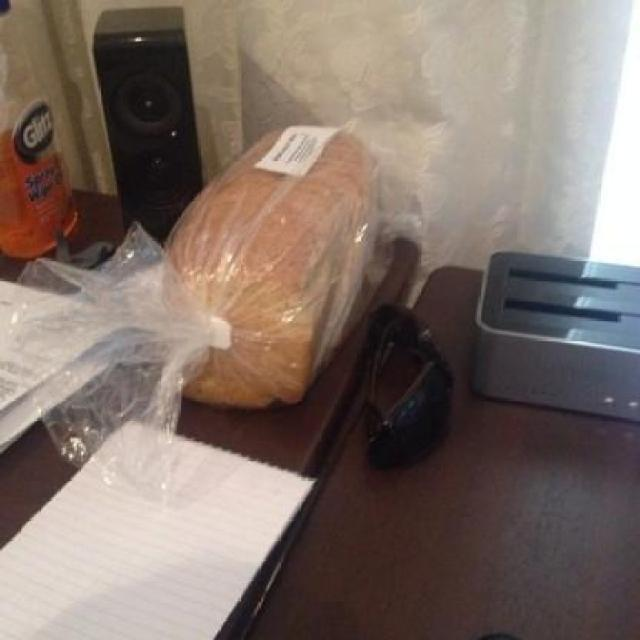plastic bag: (5, 117, 389, 503)
